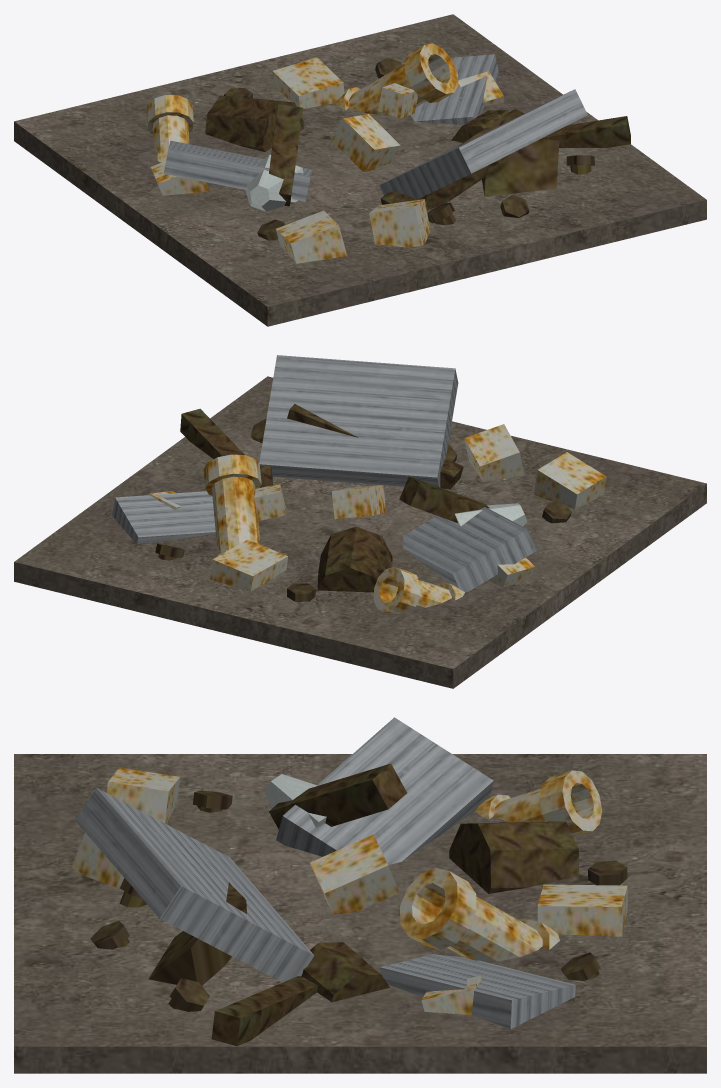
Rendered from rubble.glb.
The picture shows the model from 3 angles, top to bottom: view 1: azimuth 30°, elevation 25°; view 2: azimuth 150°, elevation 25°; view 3: azimuth 270°, elevation 25°; orthographic projection. The views are drawn at different scales.
Parts seen in each view (by area): view 1: DebrisBase, BrokenPanel_0, BentPipe_0, BrokenPanel_1, CylFrag_0, WedgeFrag, BrokenPanel_2, Chunk_4, Chunk_5, Chunk_1, Chunk_2, BentPipe_1 (+10 smaller); view 2: DebrisBase, BrokenPanel_0, BrokenPanel_1, BentPipe_0, BrokenPanel_2, CylFrag_0, Chunk_4, BentPipe_1, Chunk_1, Chunk_2, Beam_2, Beam_1 (+5 smaller); view 3: DebrisBase, BrokenPanel_0, BrokenPanel_1, BentPipe_0, CylFrag_0, BrokenPanel_2, BentPipe_1, Chunk_5, Beam_2, Chunk_1, Beam_1, CylFrag_1 (+10 smaller).
Part boxes in pixels (x1,y1,x2,y2): DebrisBase: [14, 14, 706, 326]; BrokenPanel_0: [379, 89, 587, 200]; BentPipe_0: [334, 43, 458, 115]; BrokenPanel_1: [163, 140, 312, 201]; CylFrag_0: [205, 95, 304, 151]; WedgeFrag: [482, 138, 559, 196]; BrokenPanel_2: [410, 54, 498, 124]; Chunk_4: [276, 210, 347, 263]; Chunk_5: [331, 114, 400, 171]; Chunk_1: [272, 57, 344, 108]; Chunk_2: [369, 199, 430, 247]; BentPipe_1: [146, 95, 193, 162]; DebrisBase: [14, 376, 706, 688]; BrokenPanel_0: [259, 355, 458, 487]; BrokenPanel_1: [403, 507, 536, 591]; BentPipe_0: [203, 454, 261, 555]; BrokenPanel_2: [112, 491, 215, 544]; CylFrag_0: [317, 526, 392, 592]; Chunk_4: [534, 452, 606, 509]; BentPipe_1: [373, 566, 464, 613]; Chunk_1: [210, 539, 288, 591]; Chunk_2: [464, 424, 524, 481]; Beam_2: [399, 476, 489, 522]; Beam_1: [180, 408, 244, 458]; DebrisBase: [14, 754, 706, 1073]; BrokenPanel_0: [75, 788, 314, 982]; BrokenPanel_1: [276, 717, 493, 864]; BentPipe_0: [400, 867, 559, 961]; CylFrag_0: [449, 821, 579, 893]; BrokenPanel_2: [379, 954, 575, 1028]; BentPipe_1: [475, 770, 602, 834]; Chunk_5: [310, 834, 399, 914]; Beam_2: [269, 763, 406, 829]; Chunk_1: [537, 884, 627, 936]; Beam_1: [211, 976, 317, 1046]; CylFrag_1: [301, 942, 389, 1002].
Bounding box in the file's own units: 1.42 × 0.3822 × 1.4.
26 materials, 26 textured.
